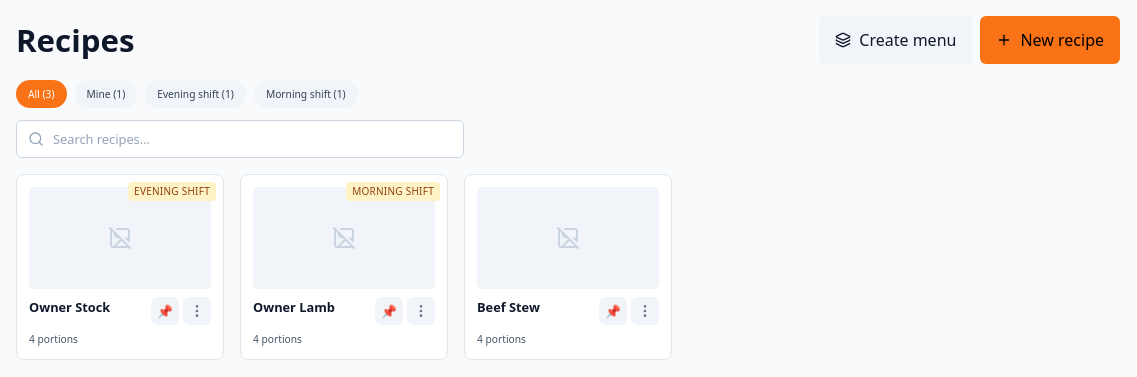
Test: RecipesLibrary — Mine vs Shared scope filter (T3c follow-up) › clicking a team chip scopes to only that team's shared cards (T6)
Expected: the element with test id "recipes-scope-chip-row" is shown, [16,80,358,108]
Click the tab with test id "recipes-scope-grp_morning" at (306, 94), box [254,80,358,108]
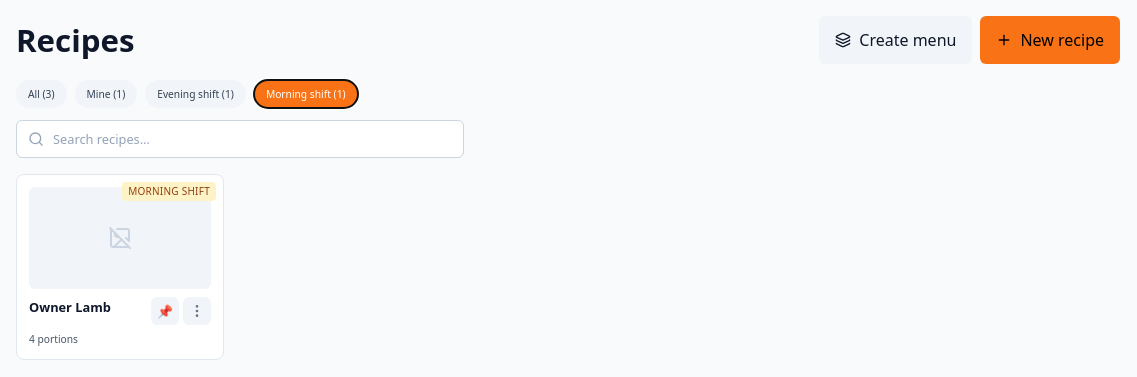
Expected: the link "Owner Lamb" is shown, [29,298,111,316]
Expected: the link "Beef Stew" is gone
Expected: the link "Owner Stock" is gone
